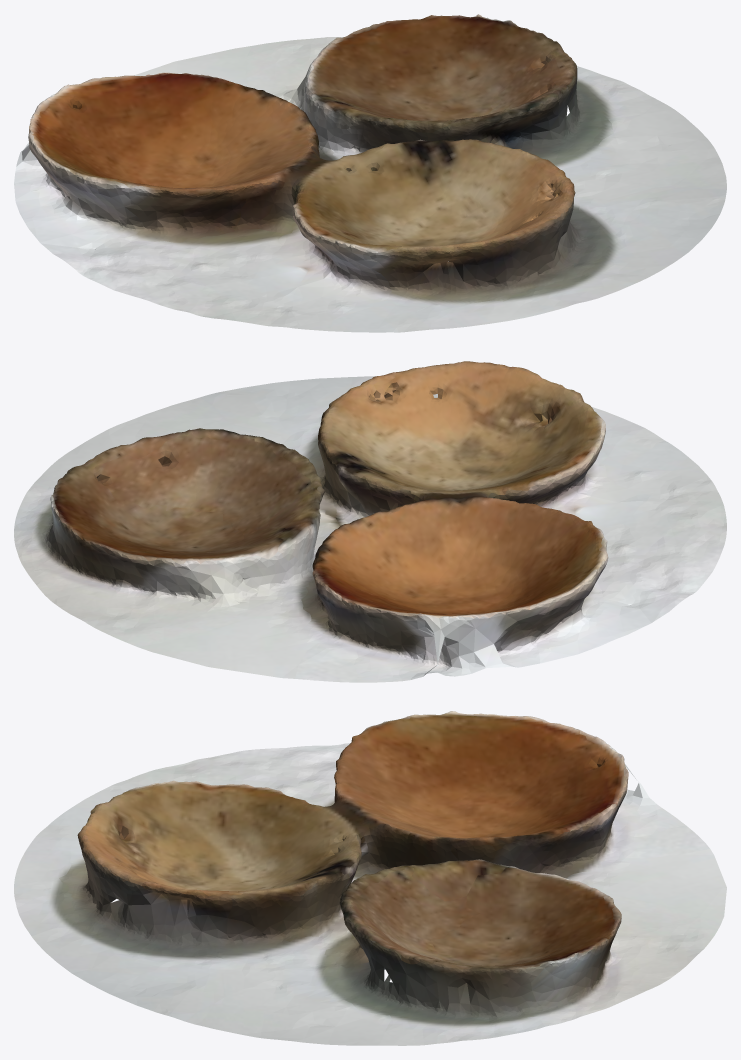
The model's file is model11_small.glb.
3 renders of one model, top to bottom at view 1: azimuth 30°, elevation 25°; view 2: azimuth 150°, elevation 25°; view 3: azimuth 270°, elevation 25°, orthographic.
Visible parts, largest first — view 1: mesh; view 2: mesh; view 3: mesh.
Part boxes in pixels (bbox=[...]): mesh: bbox=[14, 14, 726, 332]; mesh: bbox=[14, 361, 726, 682]; mesh: bbox=[14, 711, 726, 1045].
Size of the model in its own units: 0.2438 by 0.0234 by 0.2448.
Materials: 1 (1 with a texture image).
